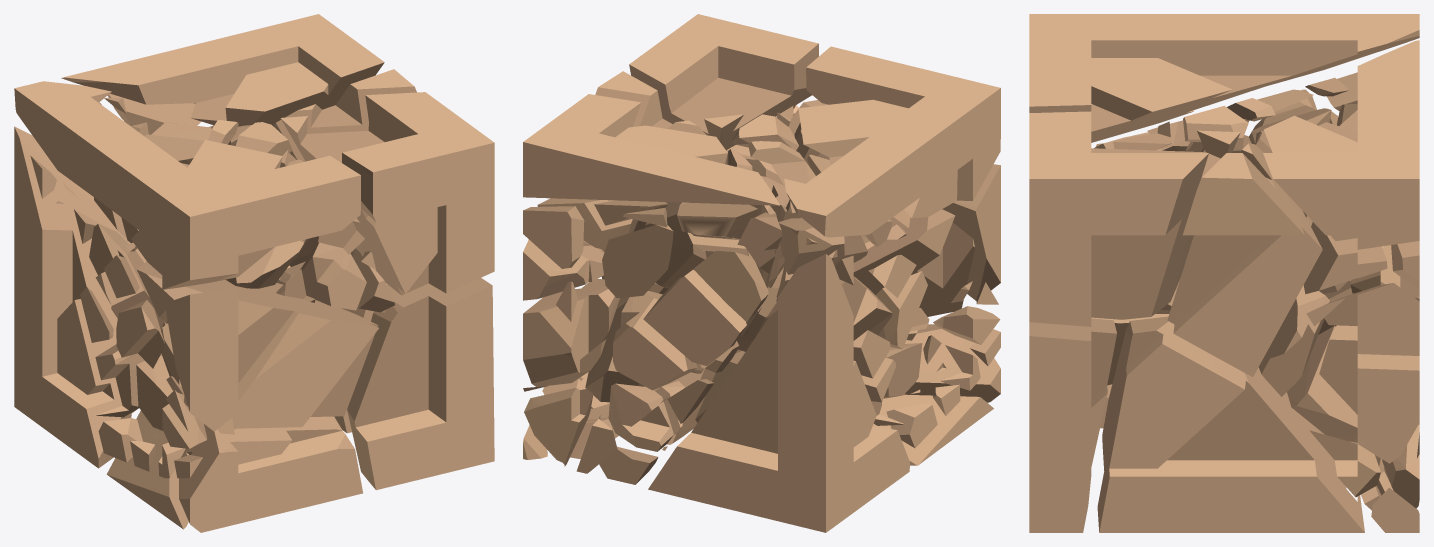
3 views of the same model, side by side, from view 1: azimuth 30°, elevation 25°; view 2: azimuth 150°, elevation 25°; view 3: azimuth 270°, elevation 25° (orthographic). The views are drawn at different scales.
Parts seen in each view (by area): view 1: crate.001_cell.013, crate.001_cell.003, crate.001_cell.007, crate.001_cell.008, crate.001_cell.009, crate.001_cell.015, crate.001_cell.001, crate.001_cell.002, crate.001_cell.004, crate.001_cell.005, crate.001_cell.010_cell.053, crate.001_cell.011_cell.019 (+17 smaller); view 2: crate.001_cell.008, crate.001_cell.013, crate.001_cell.009, crate.001_cell.003, crate.001_cell.015, crate.001_cell.014_cell.056, crate.001_cell.014_cell.044, crate.001_cell.014_cell.058, crate.001_cell.001, crate.001_cell.014_cell.021, crate.001_cell.002, crate.001_cell.014_cell.052 (+34 smaller); view 3: crate.001_cell.012, crate.001_cell.013, crate.001_cell.003, crate.001_cell.004, crate.001_cell.009, crate.001_cell.007, crate.001_cell.014_cell.056, crate.001_cell.014_cell.028, crate.001_cell.014_cell.057, crate.001_cell.014_cell.005, crate.001_cell.014_cell.035, crate.001_cell.014_cell.043 (+13 smaller).
Boxes of the visible parts, x1,y1,x2,y2 form: crate.001_cell.013: (14, 81, 360, 289); crate.001_cell.003: (280, 92, 494, 295); crate.001_cell.007: (347, 278, 494, 490); crate.001_cell.008: (14, 126, 146, 468); crate.001_cell.009: (61, 14, 384, 126); crate.001_cell.015: (136, 261, 378, 434); crate.001_cell.001: (179, 395, 362, 532); crate.001_cell.002: (165, 288, 238, 431); crate.001_cell.004: (273, 69, 416, 161); crate.001_cell.005: (106, 410, 188, 529); crate.001_cell.010_cell.053: (300, 242, 366, 310); crate.001_cell.011_cell.019: (89, 224, 166, 330); crate.001_cell.008: (648, 254, 909, 532); crate.001_cell.013: (784, 46, 1000, 237); crate.001_cell.009: (523, 94, 779, 205); crate.001_cell.003: (629, 14, 818, 150); crate.001_cell.015: (737, 209, 975, 351); crate.001_cell.014_cell.056: (523, 279, 619, 386); crate.001_cell.014_cell.044: (643, 270, 746, 365); crate.001_cell.014_cell.058: (613, 290, 697, 390); crate.001_cell.001: (695, 324, 1000, 422); crate.001_cell.014_cell.021: (602, 225, 673, 297); crate.001_cell.002: (942, 164, 1000, 300); crate.001_cell.014_cell.052: (524, 388, 593, 466); crate.001_cell.012: (1097, 316, 1364, 532); crate.001_cell.013: (1029, 14, 1419, 142); crate.001_cell.003: (1029, 111, 1240, 326); crate.001_cell.004: (1167, 143, 1322, 376); crate.001_cell.009: (1263, 40, 1419, 249); crate.001_cell.007: (1029, 318, 1116, 532); crate.001_cell.014_cell.056: (1319, 325, 1419, 463); crate.001_cell.014_cell.028: (1306, 283, 1419, 355); crate.001_cell.014_cell.057: (1258, 285, 1330, 396); crate.001_cell.014_cell.005: (1287, 325, 1357, 442); crate.001_cell.014_cell.035: (1303, 222, 1387, 294); crate.001_cell.014_cell.043: (1309, 430, 1380, 497).
Size of what is drawn, in the model's own units: 0.5 by 0.5 by 0.5.
